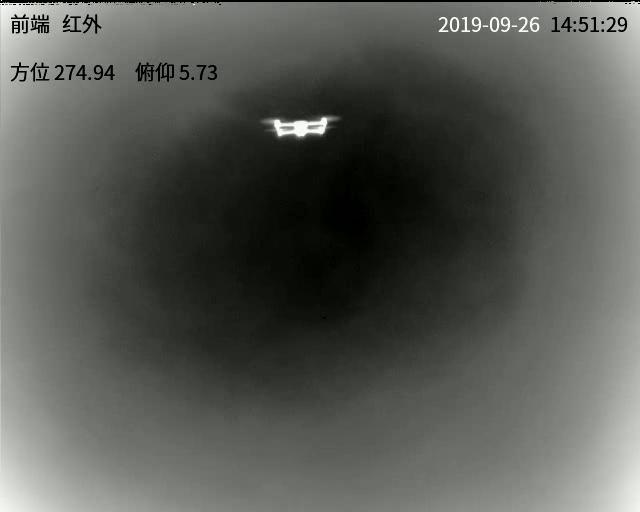DRONE: (266, 116, 332, 138)
